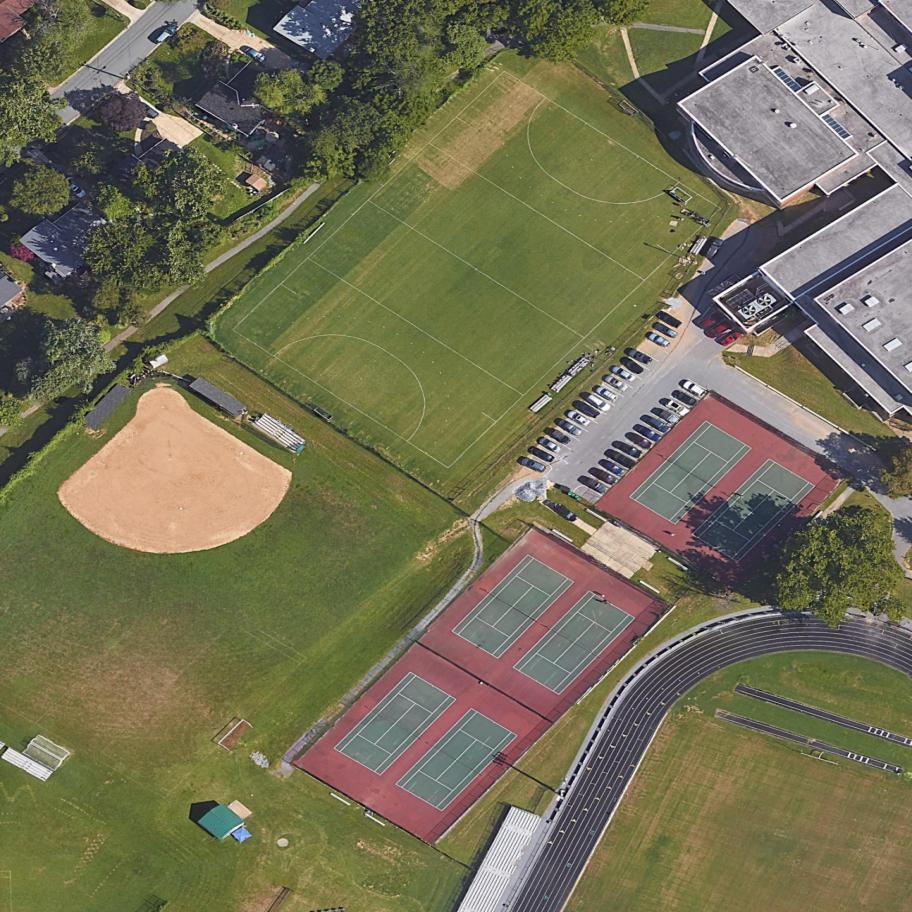small-vehicle: (604, 446, 638, 472), (696, 308, 726, 335), (651, 403, 682, 429), (151, 23, 179, 51), (612, 437, 644, 460), (552, 500, 581, 525), (618, 354, 647, 379), (583, 392, 613, 416), (702, 235, 726, 264), (643, 413, 672, 437), (593, 465, 621, 489), (556, 417, 585, 440), (654, 308, 683, 331), (581, 475, 610, 498), (663, 397, 691, 420), (627, 430, 655, 453), (64, 178, 90, 202), (705, 319, 732, 342), (609, 363, 637, 385), (670, 388, 698, 410), (527, 444, 556, 465), (682, 378, 708, 401), (717, 329, 744, 351), (627, 347, 655, 368), (574, 400, 601, 421), (593, 384, 620, 405), (603, 373, 630, 394), (637, 423, 664, 444), (600, 457, 627, 478), (519, 456, 548, 475), (567, 409, 593, 430), (653, 320, 679, 340), (646, 331, 672, 351), (538, 435, 564, 455), (243, 45, 268, 65), (137, 103, 159, 122)
